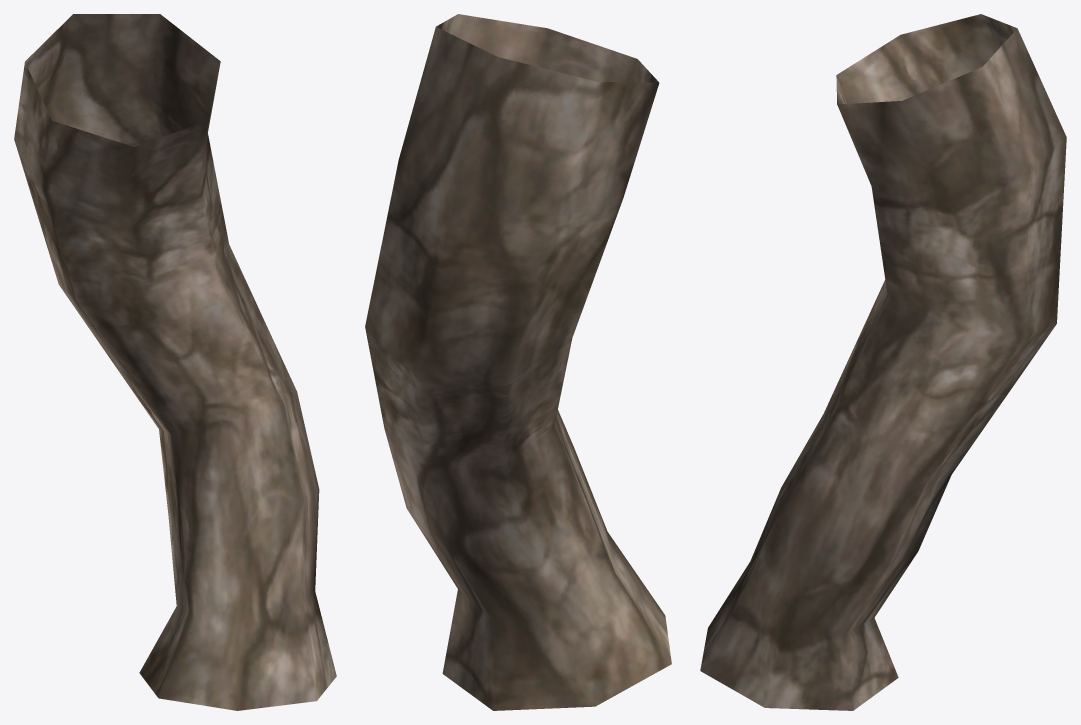
Rendered from EKH_JAIL_PS_JA_PILLAR9928276.fbx.
3 renders of one model, left to right at view 1: azimuth 30°, elevation 25°; view 2: azimuth 150°, elevation 25°; view 3: azimuth 270°, elevation 25°, orthographic. The views are drawn at different scales.
Visible parts, largest first — view 1: EKH_JAIL_PS_JA_PILLAR9928276; view 2: EKH_JAIL_PS_JA_PILLAR9928276; view 3: EKH_JAIL_PS_JA_PILLAR9928276.
Boxes of the visible parts, <box> form: EKH_JAIL_PS_JA_PILLAR9928276: <box>14,14,336,710</box>; EKH_JAIL_PS_JA_PILLAR9928276: <box>365,14,671,710</box>; EKH_JAIL_PS_JA_PILLAR9928276: <box>700,14,1066,710</box>.
Bounding box in the file's own units: 18460 × 46961 × 25181.
1 material, 1 textured.
